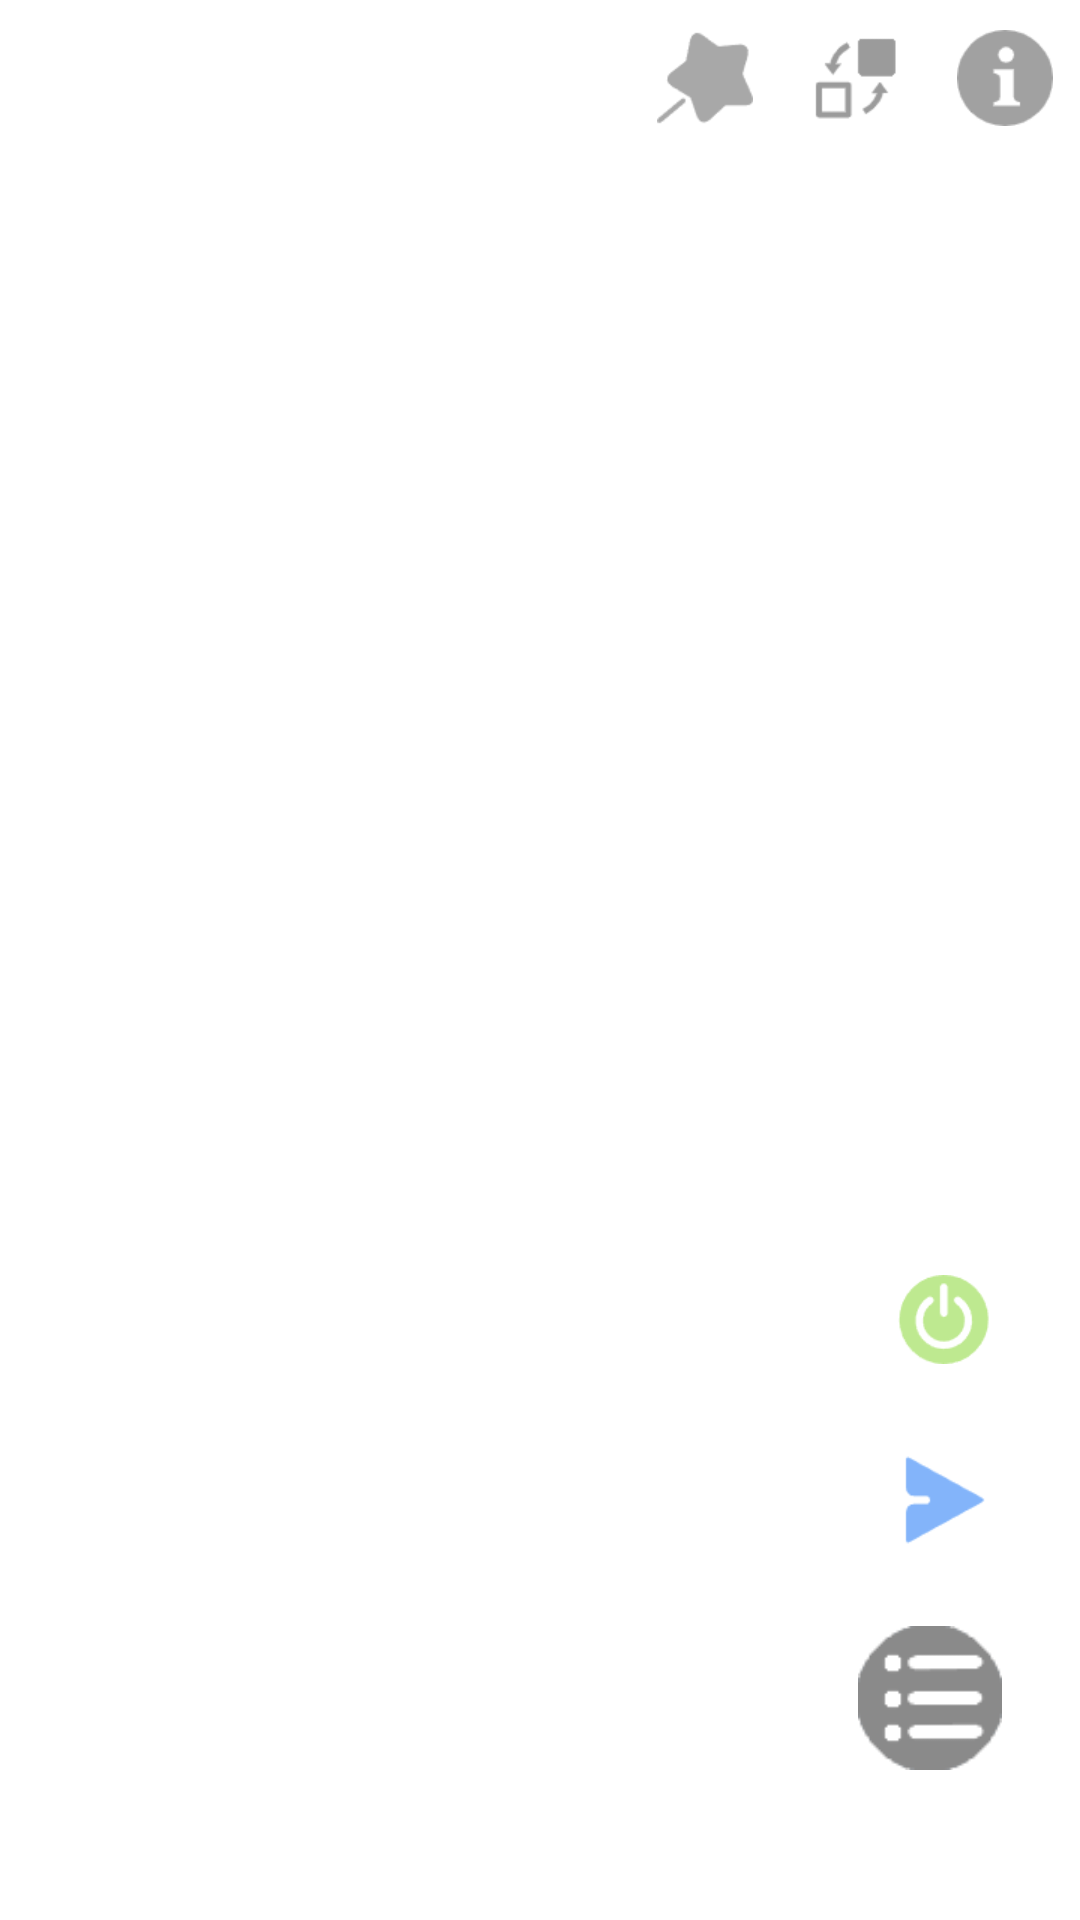

Point at icon controls on the screen. Image size 1080w x 1920h, points as [x,y].
send: [945,1500]
start: [944,1319]
应用使用帮助: [1005,78]
设备列表: [930,1698]
